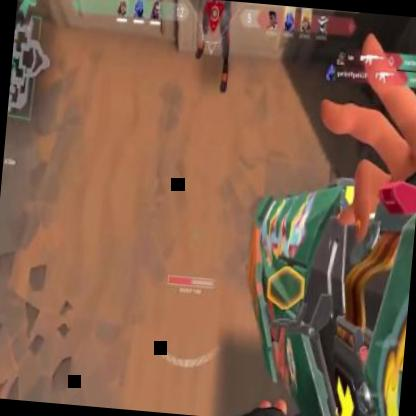enemy: (191, 0, 238, 93)
